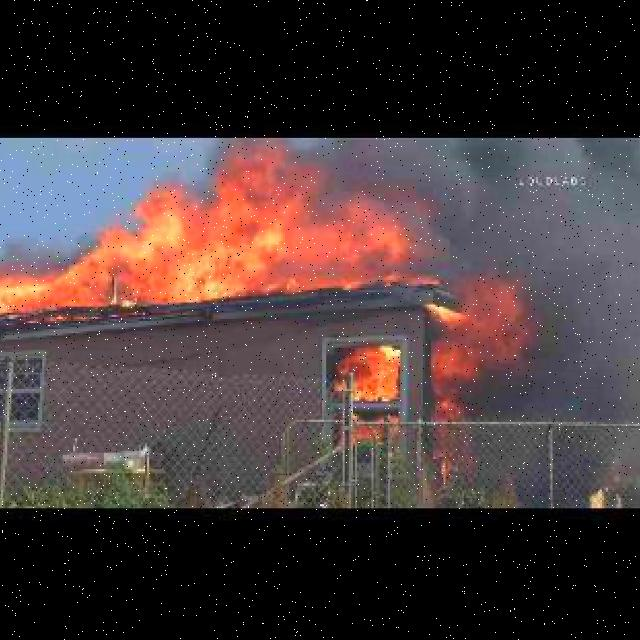fire: (0, 208, 406, 311), (416, 274, 524, 399), (324, 342, 407, 406)
smoke: (314, 146, 640, 270)
